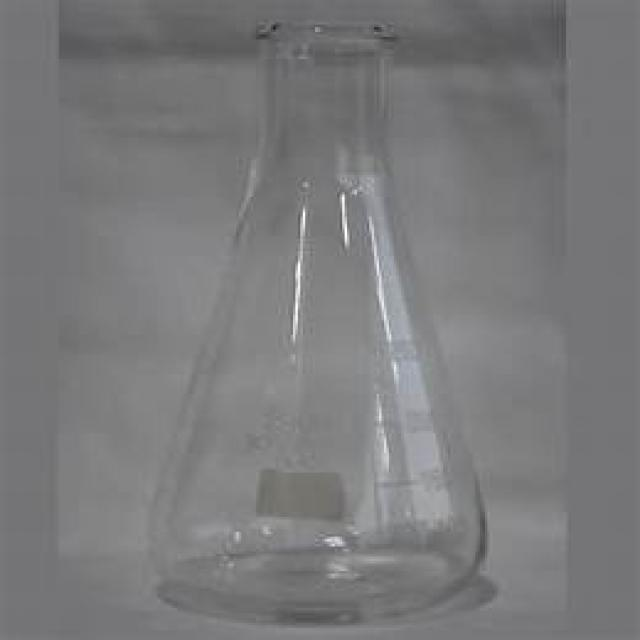Titrarion: (120, 18, 496, 619)
